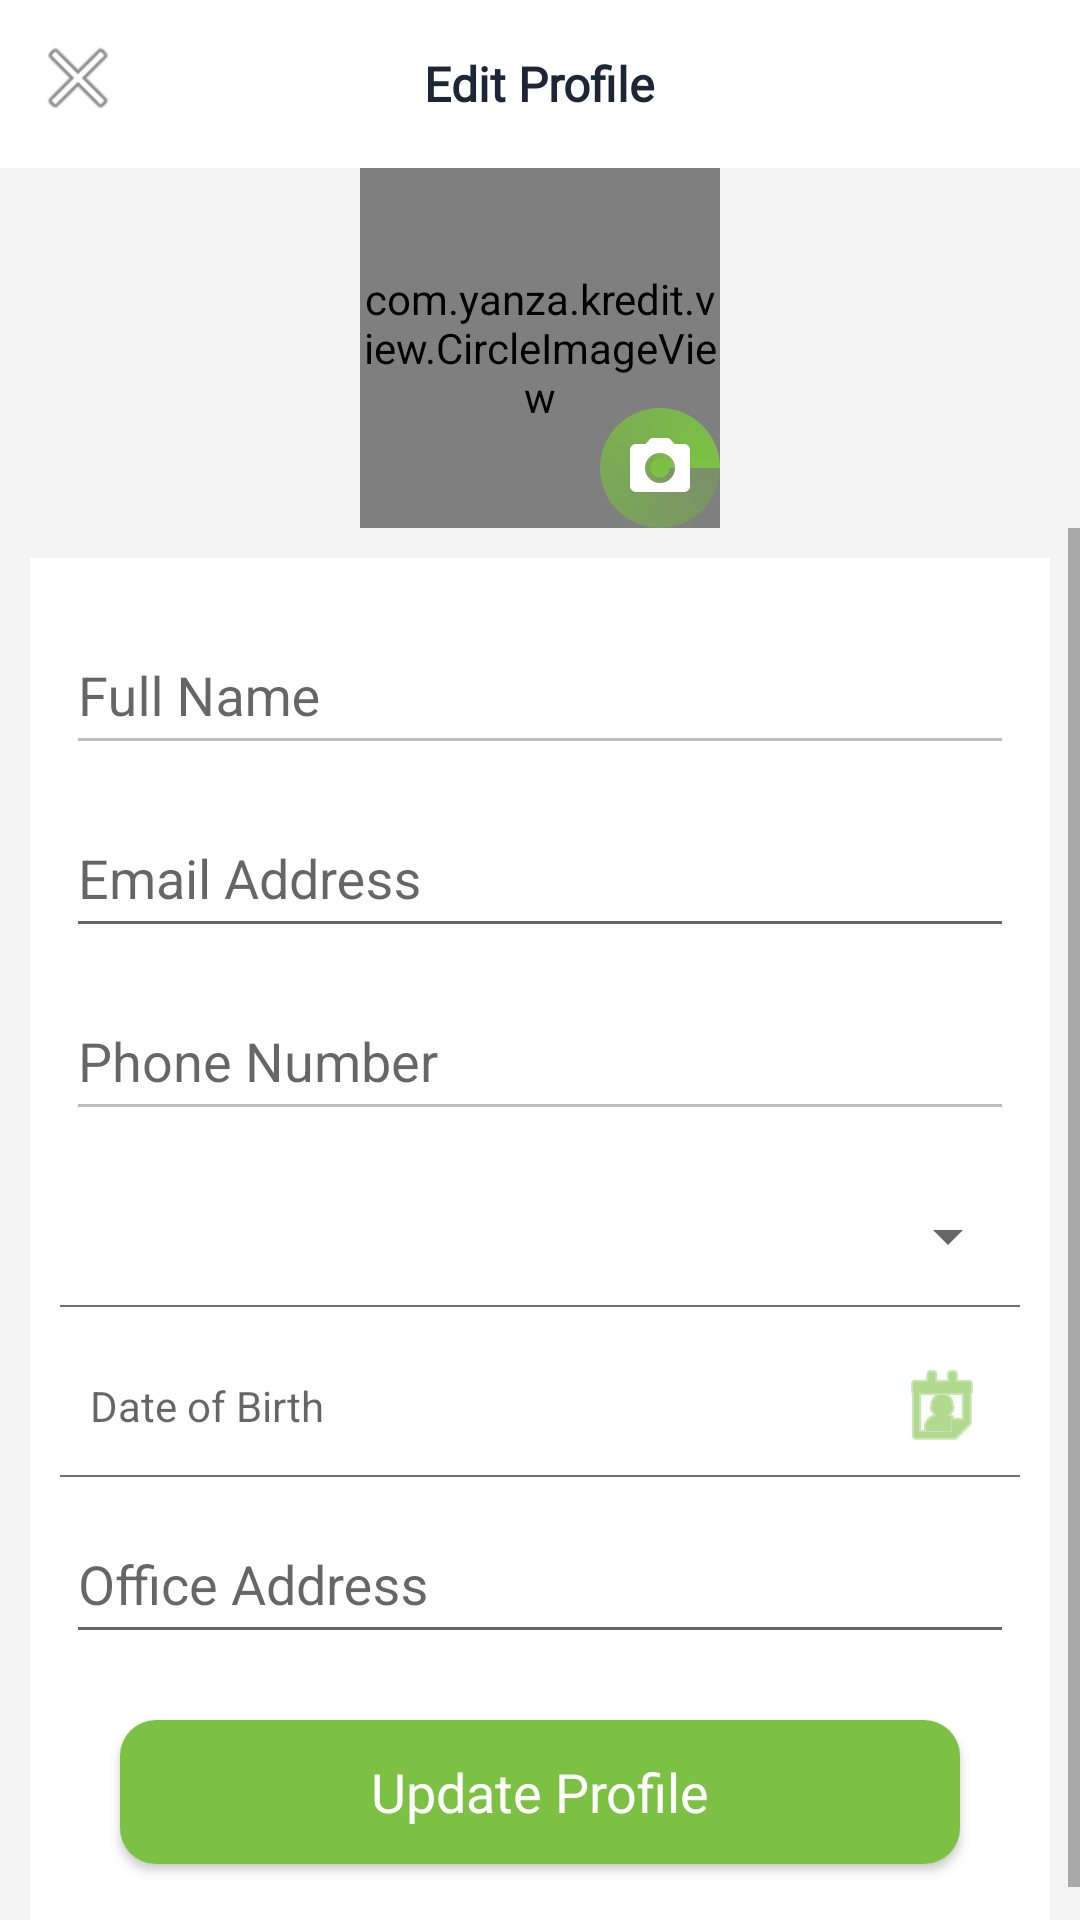

Named icons in this screenshot (1080*1920) and their bounding boxes, region(x1, y1, x2, y2):
camera: region(600, 408, 720, 528)
close clear cancel: region(48, 48, 108, 108)
